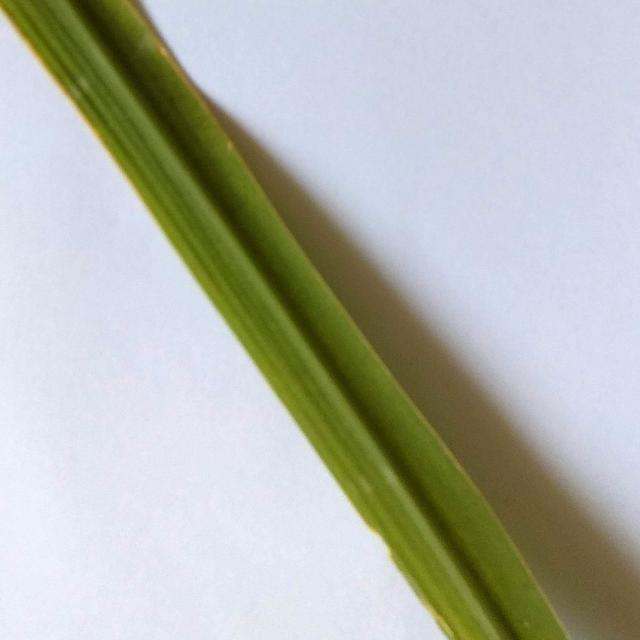Rice_Healthy: (0, 0, 568, 640)
